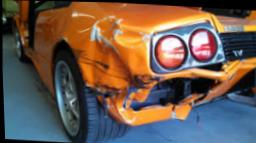Bumper: (78, 14, 231, 124)
